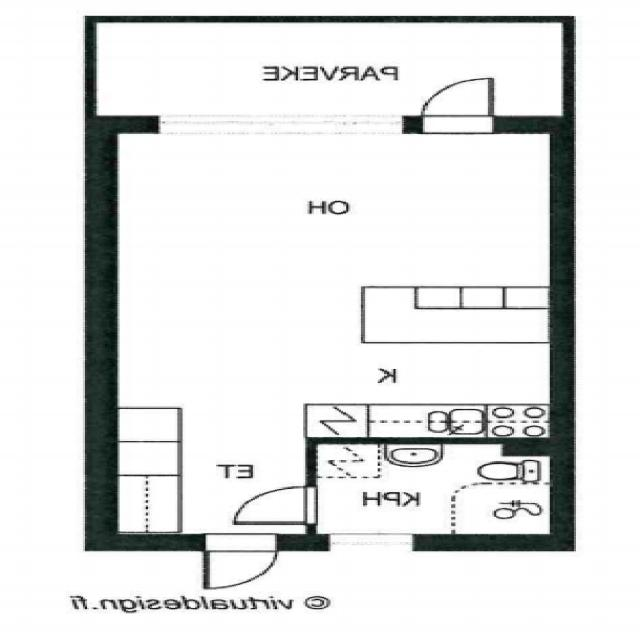door: (205, 534, 277, 588), (423, 79, 492, 134), (234, 487, 317, 525)
